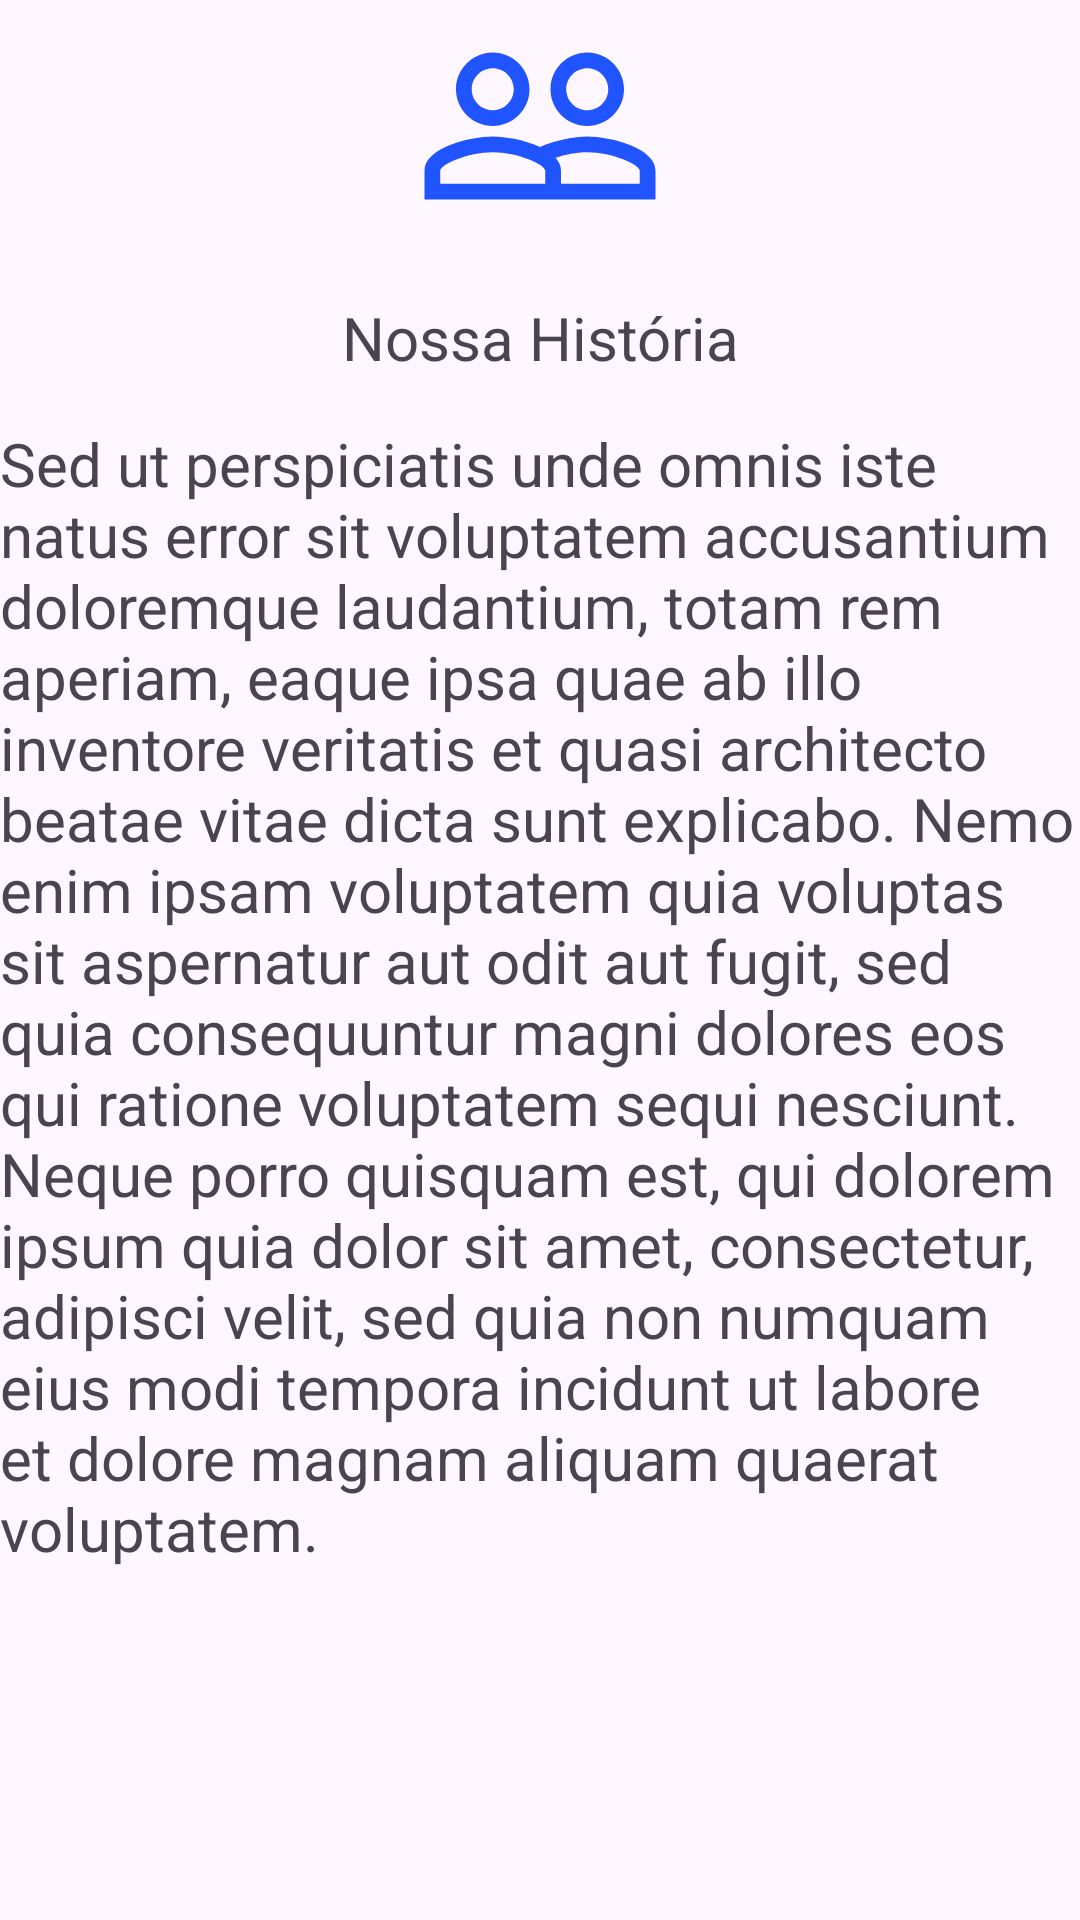

Icon click points for this 1080 x 1920 phone screenshot, format (x,y):
pessoa: (540,126)
